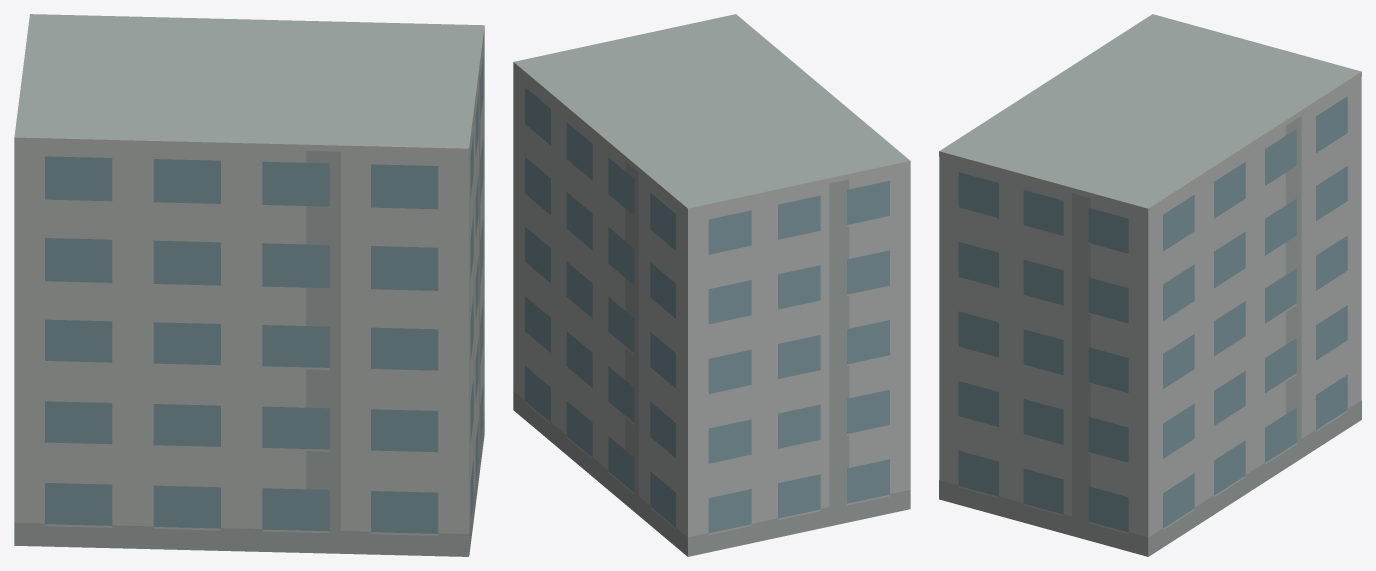
The model's file is survey-upis-32888605.glb.
3 views of the same model, side by side, from view 1: azimuth 30°, elevation 25°; view 2: azimuth 150°, elevation 25°; view 3: azimuth 270°, elevation 25° (orthographic). The views are drawn at different scales.
Parts seen in each view (by area): view 1: survey-upis-32888605.tmp; view 2: survey-upis-32888605.tmp; view 3: survey-upis-32888605.tmp.
Part boxes in pixels (<box>): survey-upis-32888605.tmp: <box>14,14,484,556</box>; survey-upis-32888605.tmp: <box>513,14,910,556</box>; survey-upis-32888605.tmp: <box>939,14,1361,556</box>.
Size of the model in its own units: 18.96 by 15.8 by 17.39.
